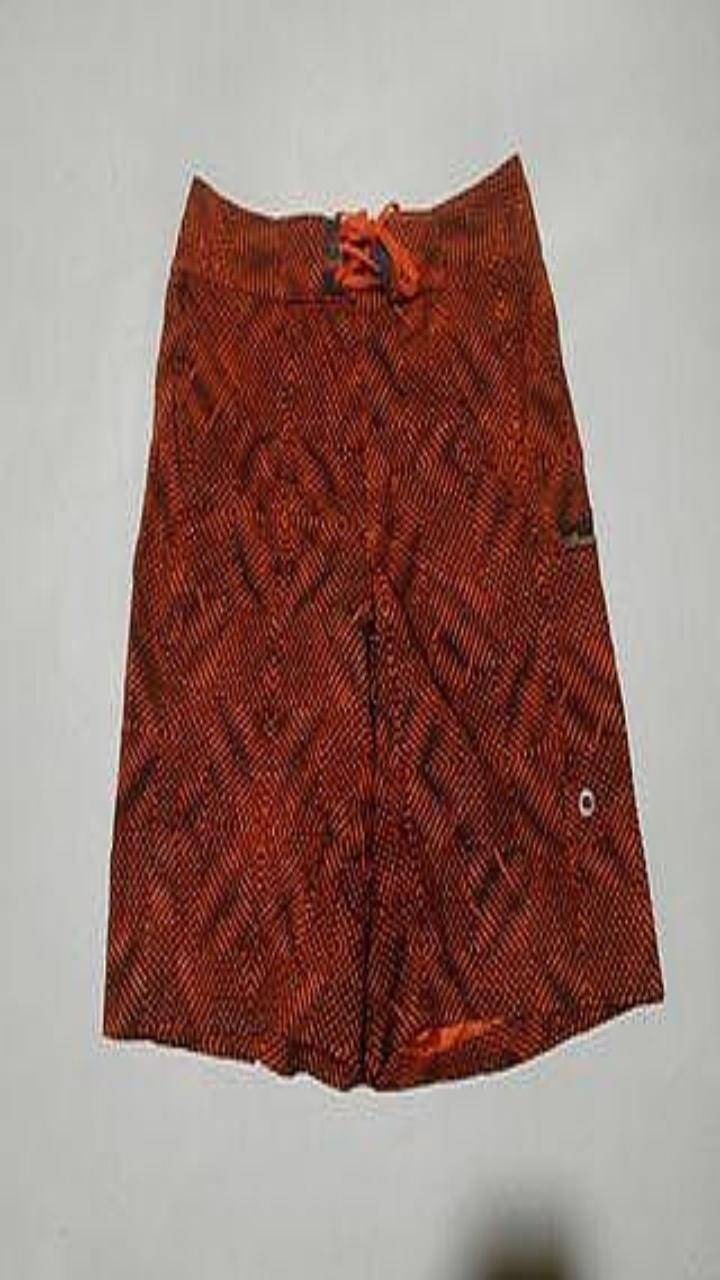Shorts: (103, 154, 663, 1089)
